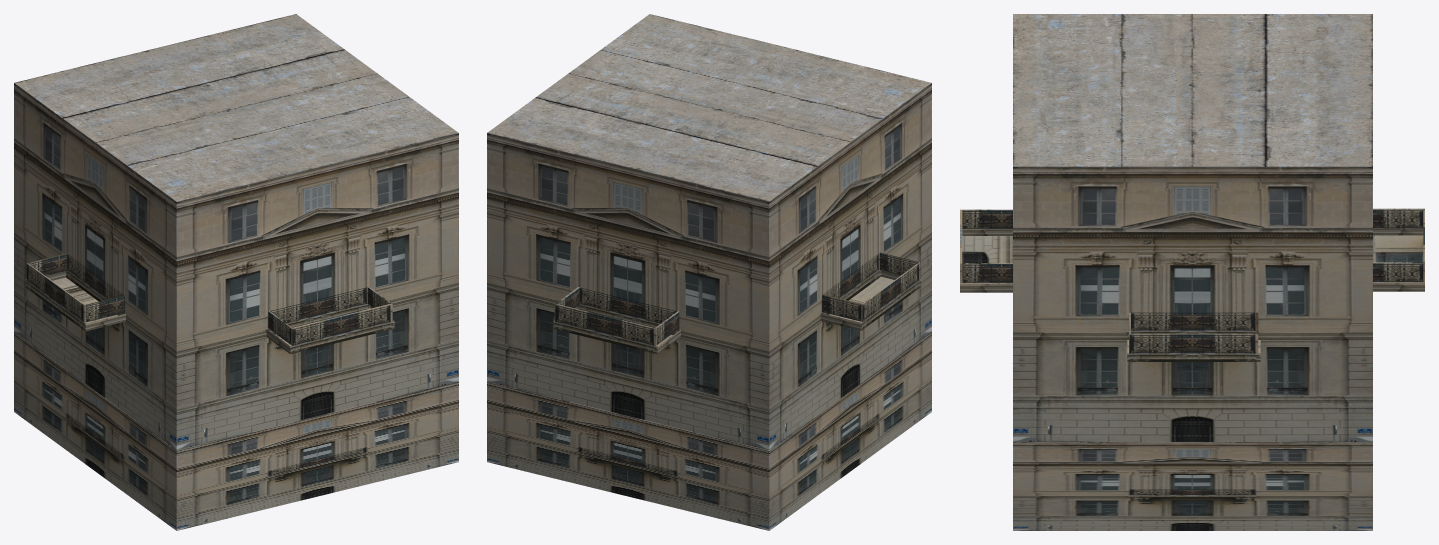
Rendered from BagBuilding6_0.fbx.
The picture shows the model from 3 angles, left to right: view 1: azimuth 30°, elevation 25°; view 2: azimuth 150°, elevation 25°; view 3: azimuth 270°, elevation 25°; orthographic projection. The views are drawn at different scales.
Parts seen in each view (by area): view 1: Box0, roof0, BoxA0, main0, bb0; view 2: Box0, roof0, BoxA0, main0, bb0; view 3: Box0, roof0, BoxA0, main0, bb0.
Boxes of the visible parts, x1,y1,x2,y2 form: Box0: (14, 83, 458, 450); roof0: (14, 14, 458, 201); BoxA0: (14, 332, 458, 530); main0: (25, 253, 394, 354); bb0: (52, 277, 291, 346); Box0: (487, 83, 931, 450); roof0: (487, 14, 931, 201); BoxA0: (487, 332, 931, 530); main0: (553, 252, 921, 354); bb0: (656, 276, 894, 346); Box0: (1013, 166, 1372, 441); roof0: (1013, 14, 1372, 166); BoxA0: (1013, 442, 1372, 530); main0: (960, 208, 1424, 361); bb0: (960, 235, 1424, 353).
Size of the model in its own units: 21.24 by 18.41 by 21.27.
